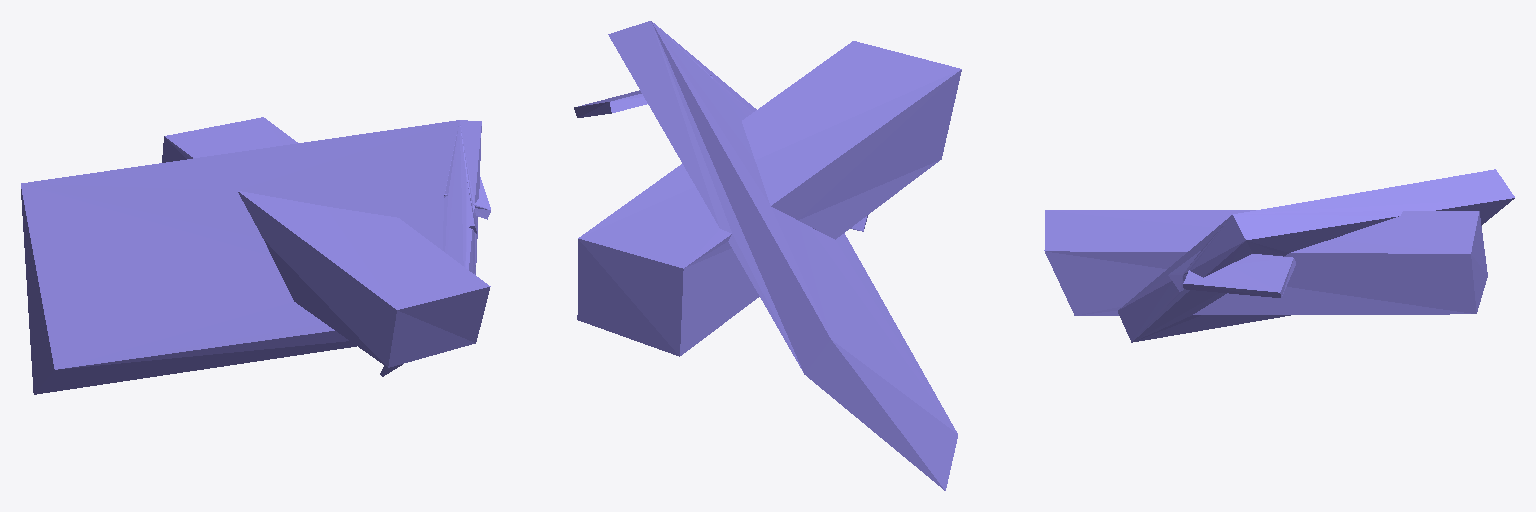
The robot description file, URDF, robot "blob357":

<robot name="blob357">
  <link name="random_obj_357">
    <contact>
      <lateral_friction value="1.0"/>
      <rolling_friction value="0.0"/>
      <inertia_scaling value="3.0"/>
      <contact_cfm value="0.0"/>
      <contact_erp value="1.0"/>
    </contact>
    <inertial>
      <origin rpy="0 0 0" xyz="0 0 0"/>
      <mass value="0.1442"/>
      <inertia ixx="1" ixy="0" ixz="0" iyy="1" iyz="0" izz="0"/>
    </inertial>
    <visual>
      <origin rpy="0 0 0" xyz="0 0 0"/>
      <geometry>
        <mesh filename="357.obj" scale="0.0084 0.0084 0.0084"/>
      </geometry>
      <material name="blockmat">
        <color rgba="0.63 0.60 0.97 1"/>
      </material>
    </visual>
    <collision>
      <origin rpy="0 0 0" xyz="0 0 0"/>
      <geometry>
        <mesh filename="357_coll.obj" scale="0.0084 0.0084 0.0084"/>
      </geometry>
    </collision>
  </link>
</robot>

--- Facts derived from the render (not from the file) ---
3 views of the same robot in one strip: view 1: azimuth 30°, elevation 25°; view 2: azimuth 150°, elevation 25°; view 3: azimuth 270°, elevation 25° (orthographic).
Robot: blob357 — 1 links, 0 joints (none); root link random_obj_357; default pose: all joints at 0.
Links seen in each view (by area): view 1: random_obj_357; view 2: random_obj_357; view 3: random_obj_357.
Boxes of the visible links, box(x1,y1,x2,y2) form: random_obj_357: box(21, 117, 490, 394); random_obj_357: box(574, 21, 961, 490); random_obj_357: box(1044, 169, 1514, 342).
Bounding box of the posed robot: 0.0965 × 0.1126 × 0.0623 m (x, y, z).
1 mesh visuals loaded from 1 distinct referenced files (1 OBJ).
